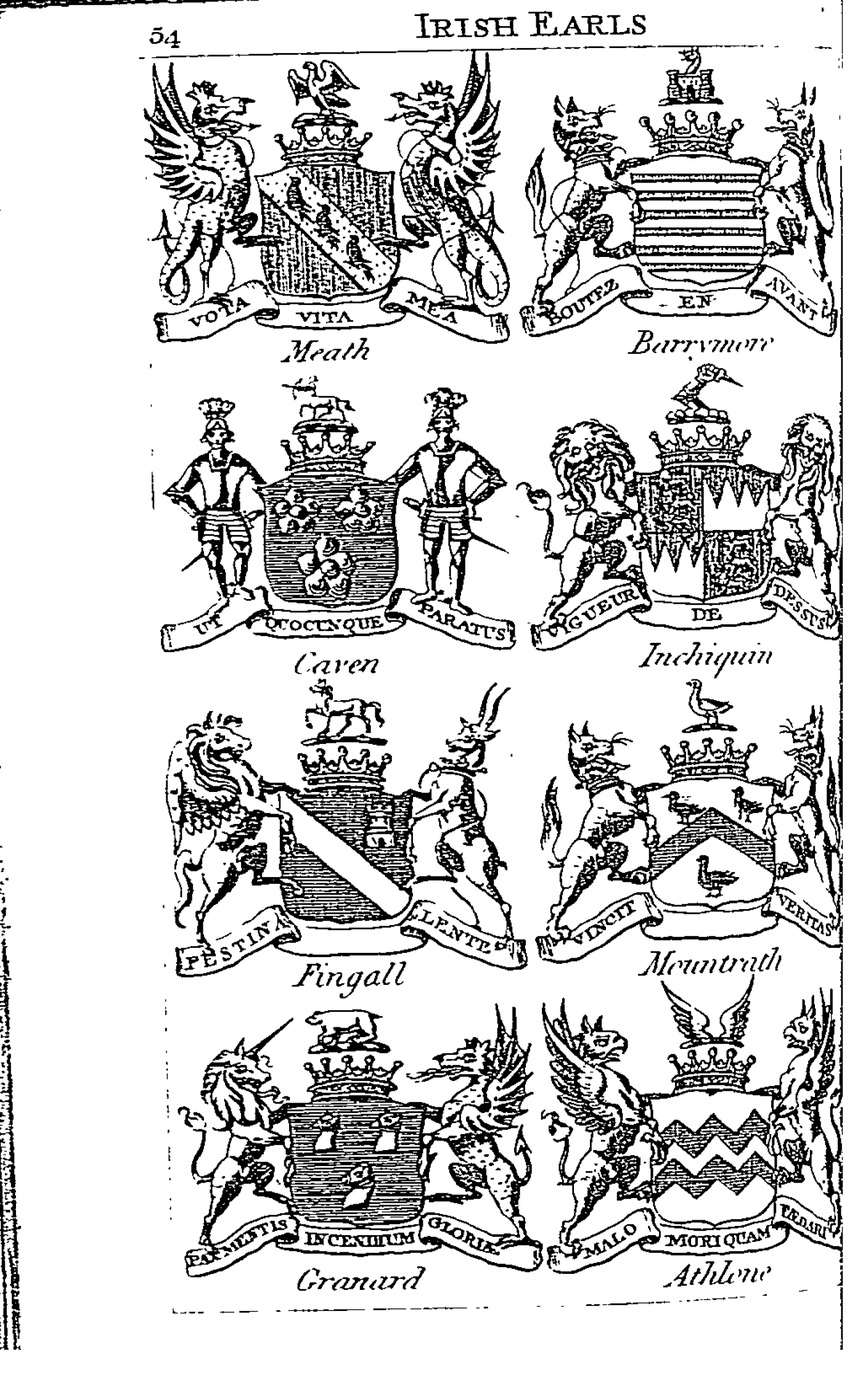coat_of_arms: (142, 59, 513, 371), (160, 682, 529, 990), (153, 375, 523, 681), (166, 998, 542, 1295), (531, 676, 863, 983), (523, 362, 853, 669), (523, 49, 840, 361), (536, 987, 849, 1294)
